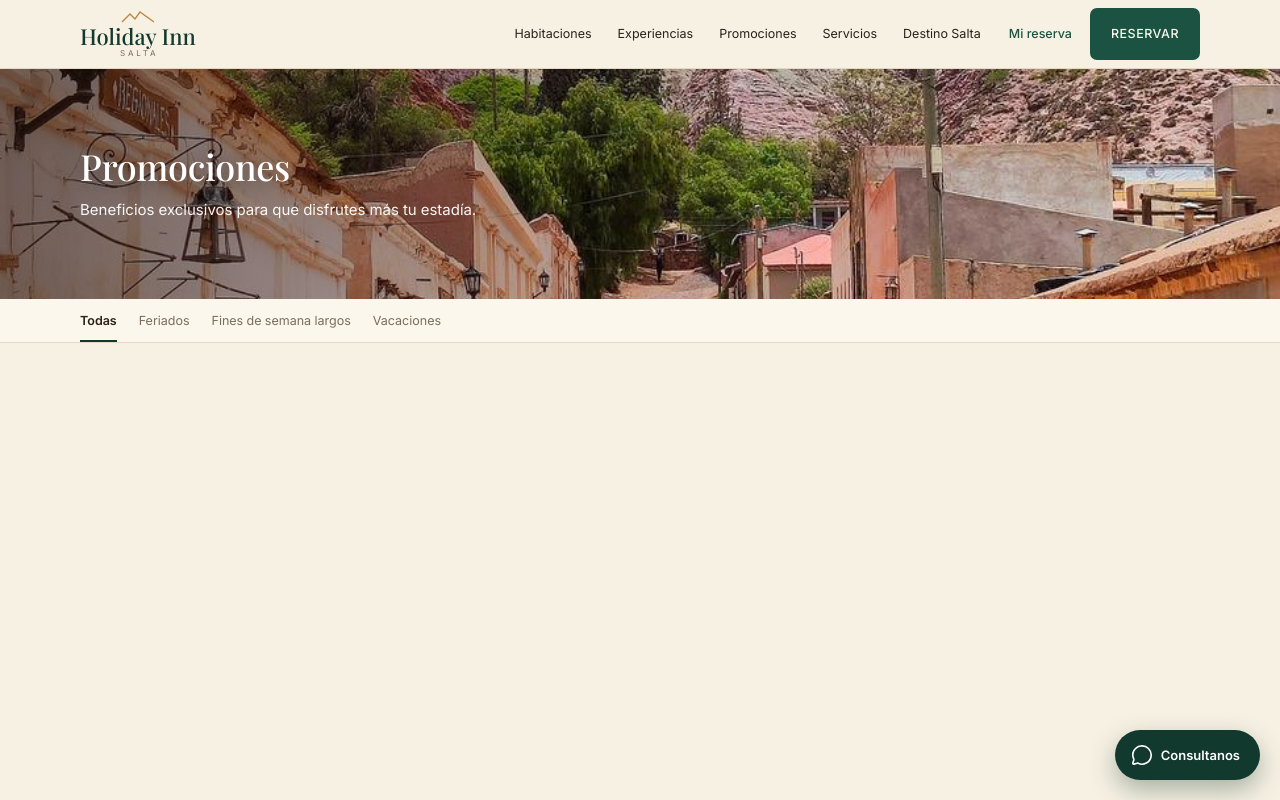
páginas del rediseño (Habitaciones, Promociones, Experiencias) › /web/promociones: las solapas filtran por categoría
Expected: the heading "Promociones" is shown, [80,142,290,190]
Click the button "Vacaciones" at point(407, 327), box [373,311,441,342]
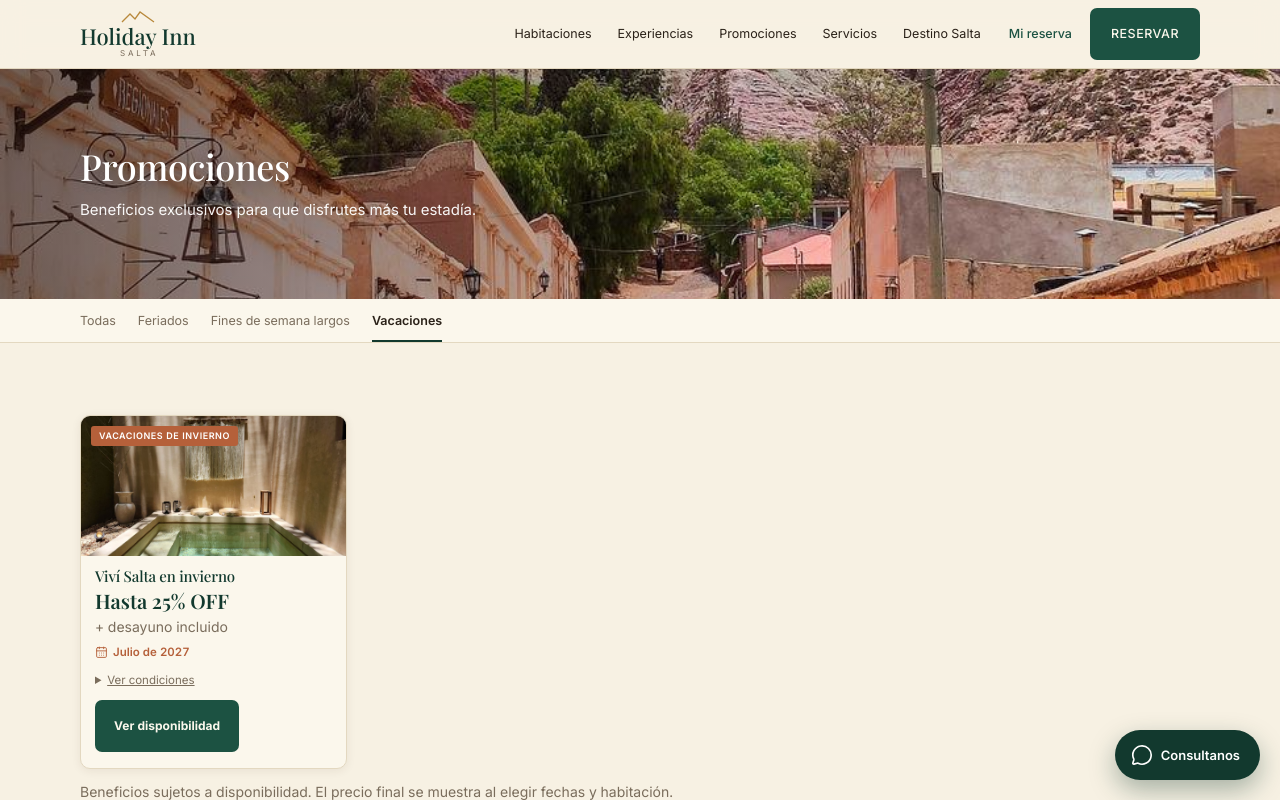
Now the heading "Viví Salta en invierno" is shown, box [95,566,235,586]
